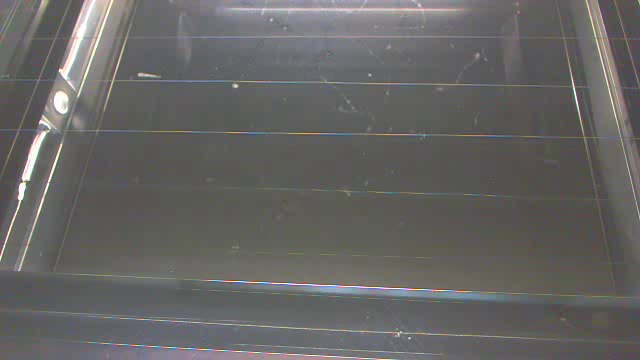alpha: (132, 70, 167, 83), (204, 172, 219, 188), (229, 81, 244, 93)
